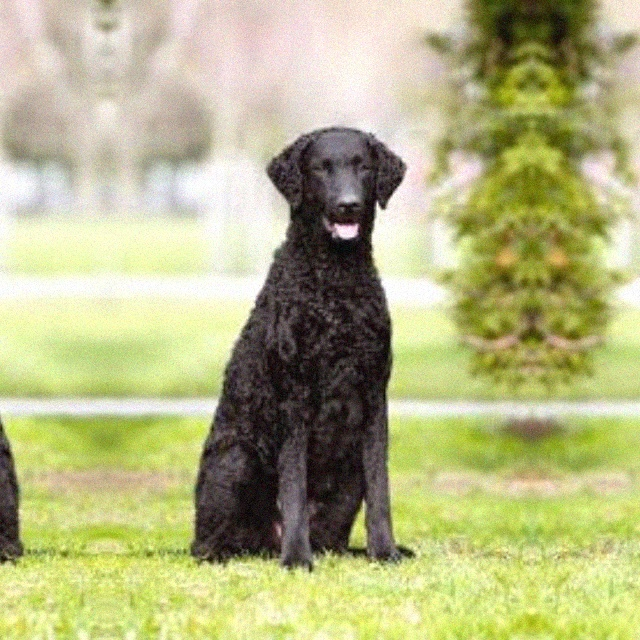dog: (138, 85, 444, 640), (0, 85, 76, 640), (622, 85, 640, 640)
